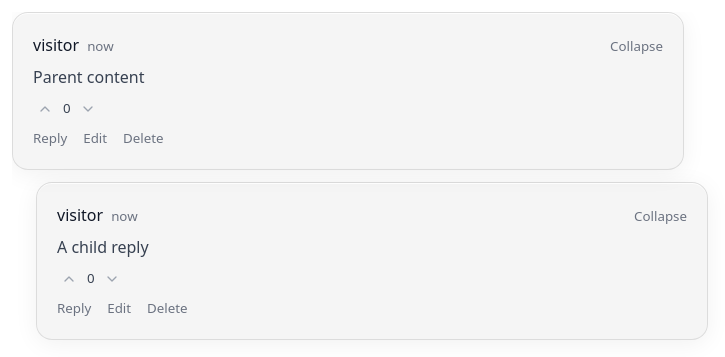
Test case: CommentItem collapse › hides full content and children again when clicking the collapse control
Expected: the text "Parent content" is shown, [33,66,144,88]
Expected: the text "A child reply" is shown, [57,236,149,258]
Click the 1st button "Collapse": [636, 47] box [610,37,663,57]
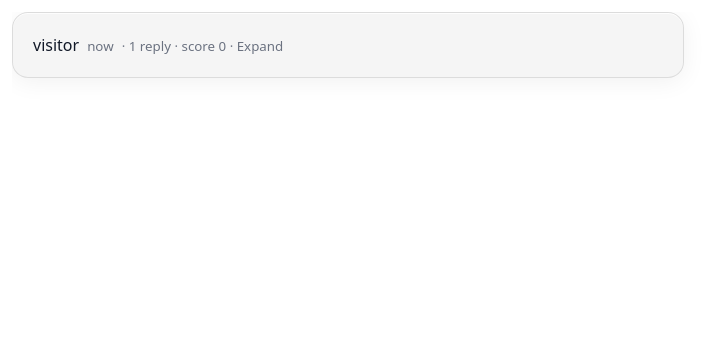
Now the text "Parent content" is gone
Now the text "A child reply" is gone
Now the button "visitor now · 1 reply · score 0 · Expand" is shown, box [12,12,684,78]
